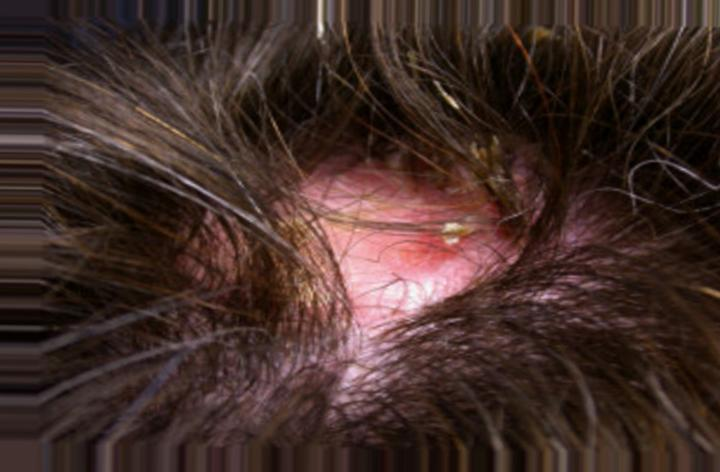Folliculitis: (278, 159, 498, 360)
